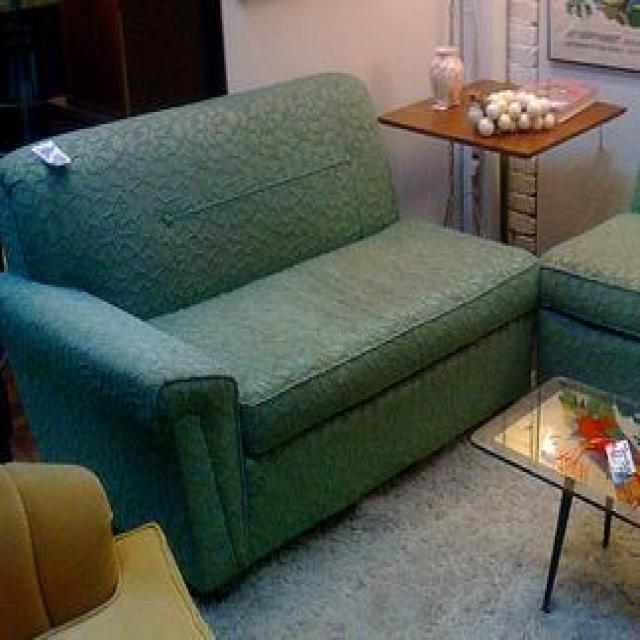sofa: (0, 69, 542, 600)
